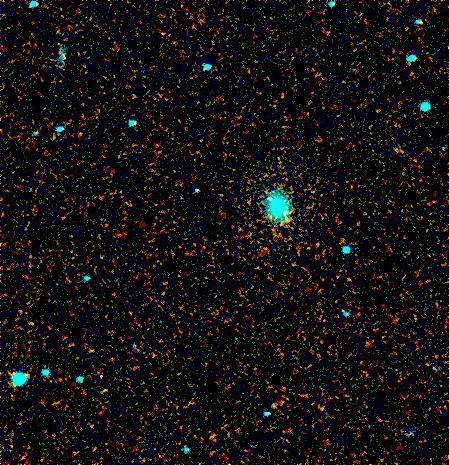star: (257, 183, 287, 213)
